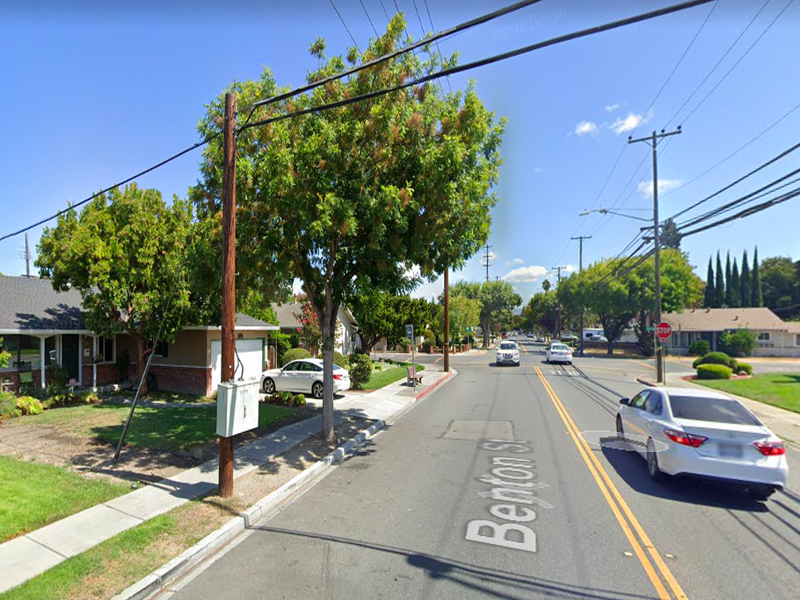tree: (195, 11, 509, 447), (32, 180, 211, 398)
utility_pole: (205, 83, 253, 163), (621, 116, 688, 172)
